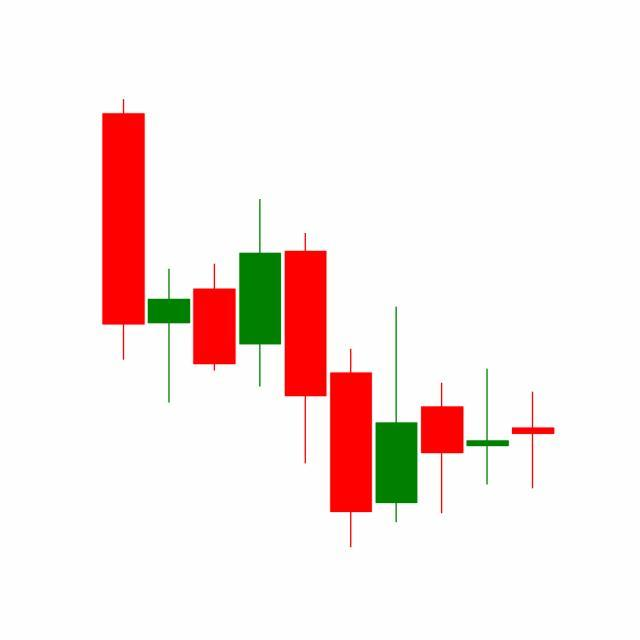Hikkake Pattern: (283, 229, 512, 548)
